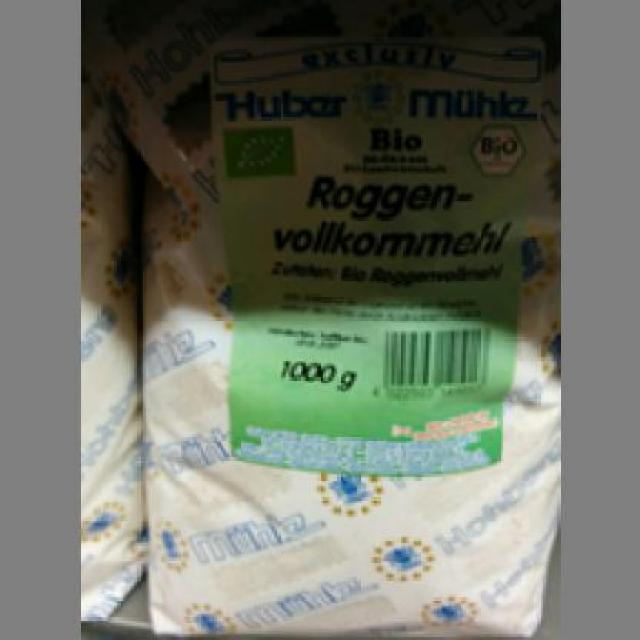Flour: (128, 69, 554, 632)
